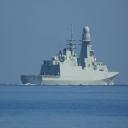Fragata: (22, 25, 121, 87)
